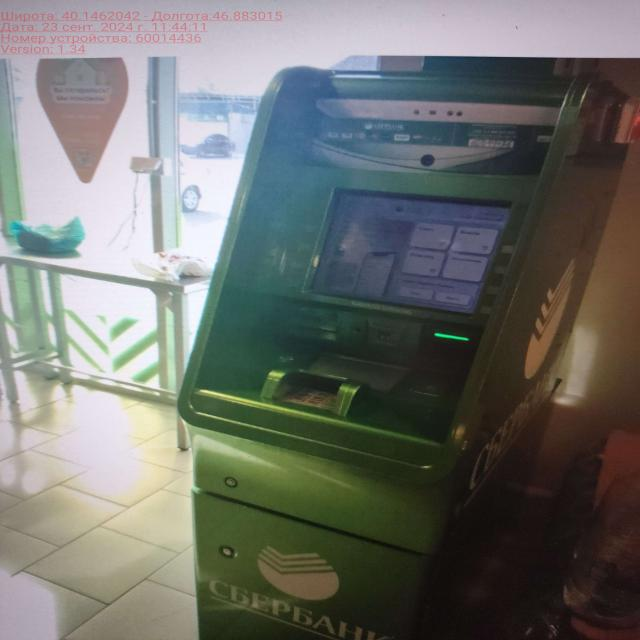bank: (186, 54, 640, 640)
